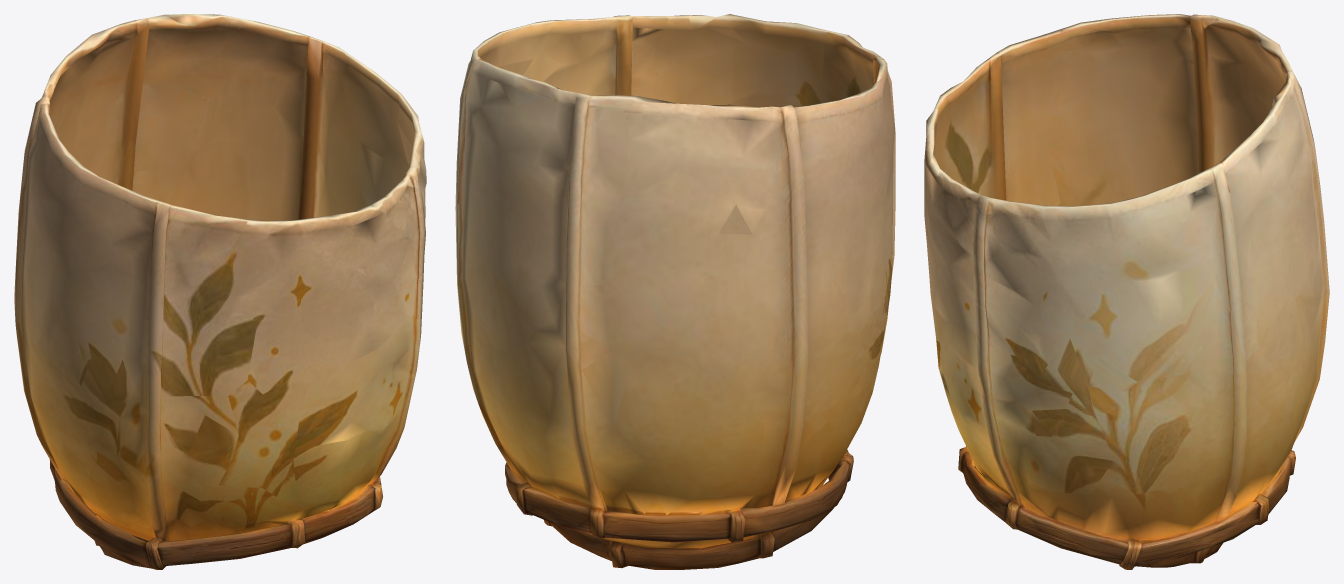
The model's file is wish_lantern.glb.
3 views of the same model, side by side, from view 1: azimuth 30°, elevation 25°; view 2: azimuth 150°, elevation 25°; view 3: azimuth 270°, elevation 25° (orthographic). The views are drawn at different scales.
Visible parts, largest first — view 1: tripo_node_8ac0b887-76d9-40cf-bd33-f77a462c2d63; view 2: tripo_node_8ac0b887-76d9-40cf-bd33-f77a462c2d63; view 3: tripo_node_8ac0b887-76d9-40cf-bd33-f77a462c2d63.
Boxes of the visible parts, bbox=[...] form: tripo_node_8ac0b887-76d9-40cf-bd33-f77a462c2d63: bbox=[14, 14, 426, 569]; tripo_node_8ac0b887-76d9-40cf-bd33-f77a462c2d63: bbox=[455, 14, 895, 569]; tripo_node_8ac0b887-76d9-40cf-bd33-f77a462c2d63: bbox=[924, 14, 1329, 569].
Bounding box in the file's own units: 0.3953 × 0.5 × 0.396.
Materials: 1 (1 with a texture image).
